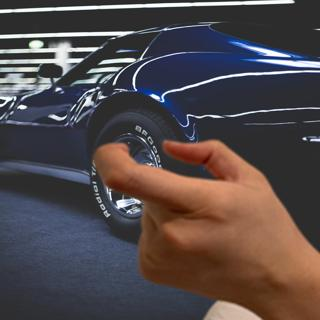HATE: (88, 130, 302, 305)
